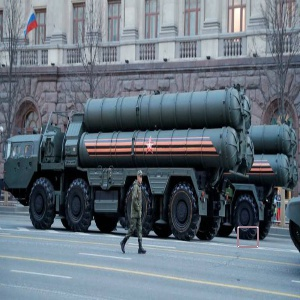square: (237, 225, 260, 249)
